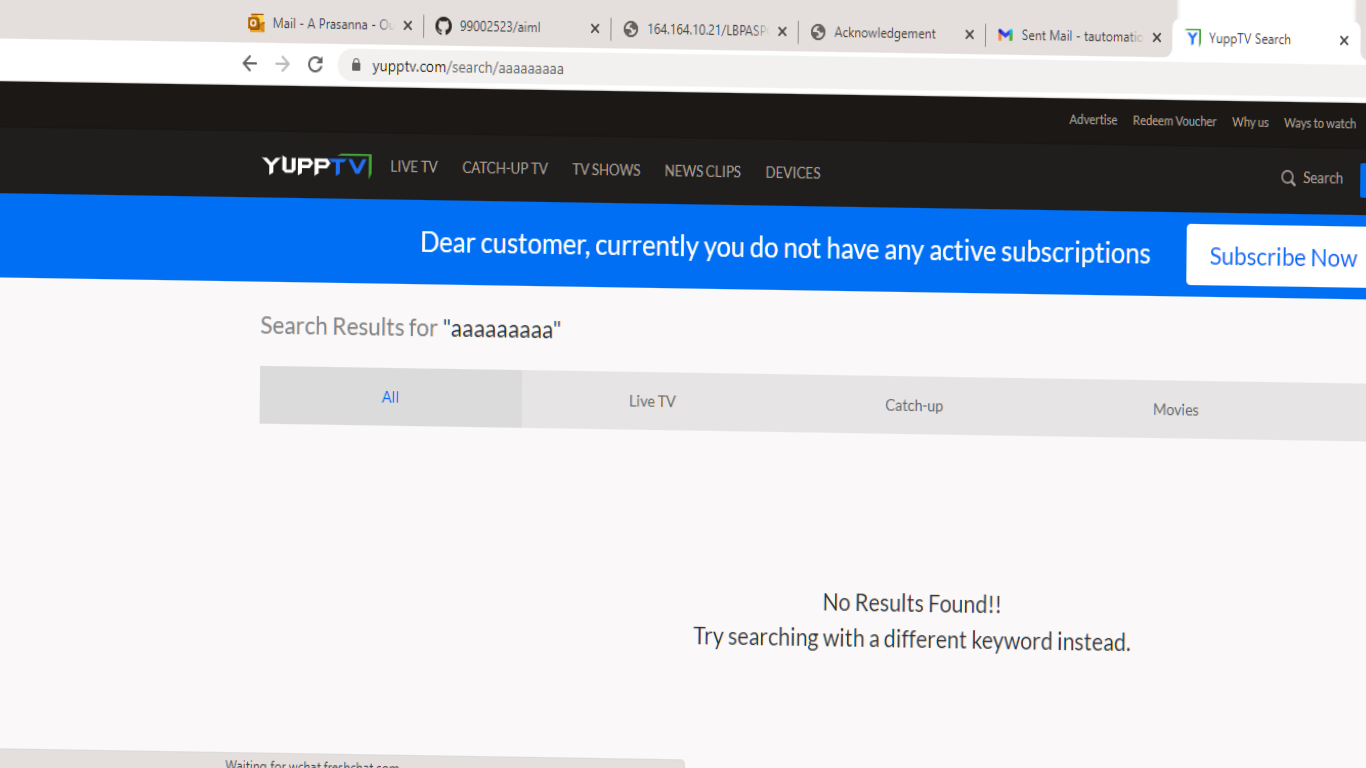noresultsfound: (579, 545, 1255, 698)
searchtextbox: (1238, 144, 1351, 197)
